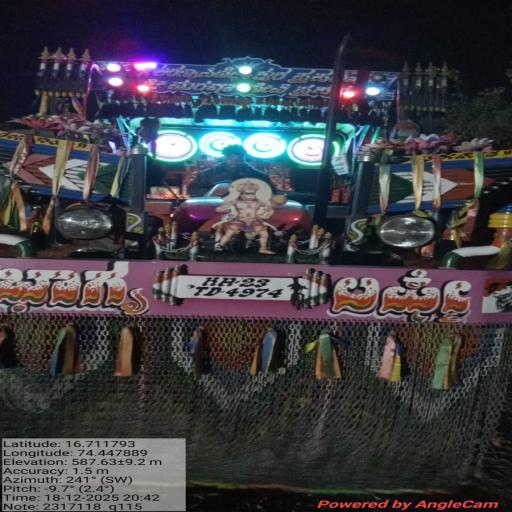number_plate: (165, 268, 320, 312)
